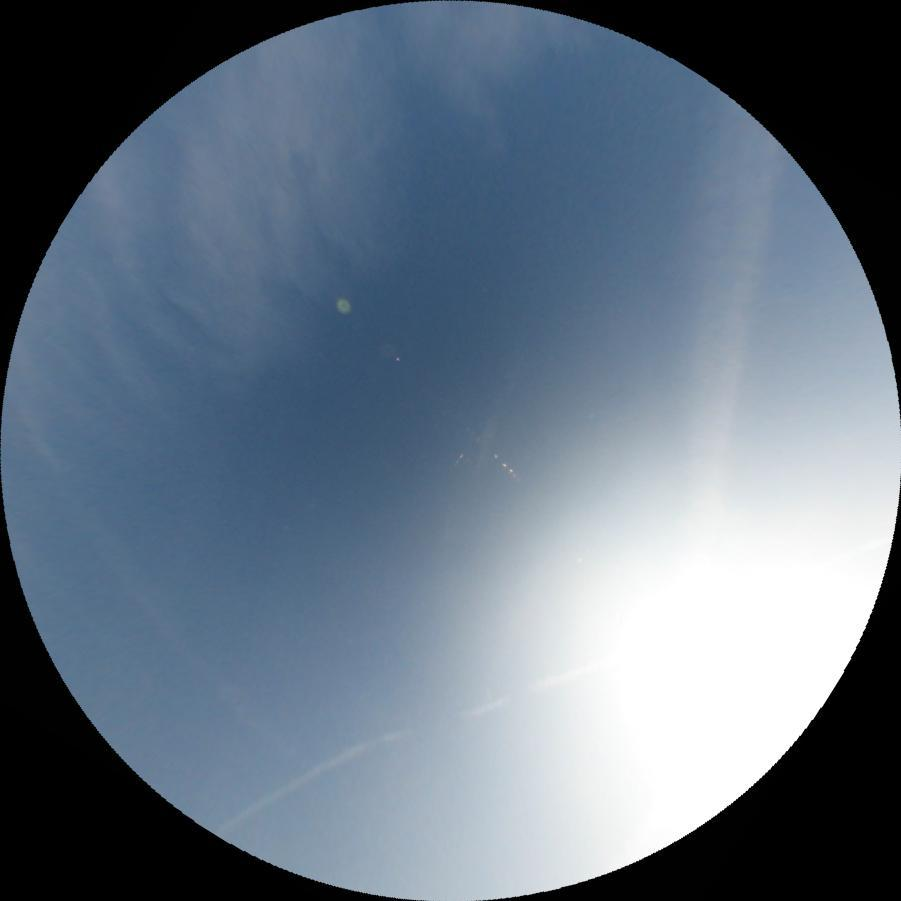contrail old: (205, 640, 611, 837)
contrail veryold: (0, 398, 291, 762), (678, 90, 787, 513)
sun: (568, 475, 894, 823)
